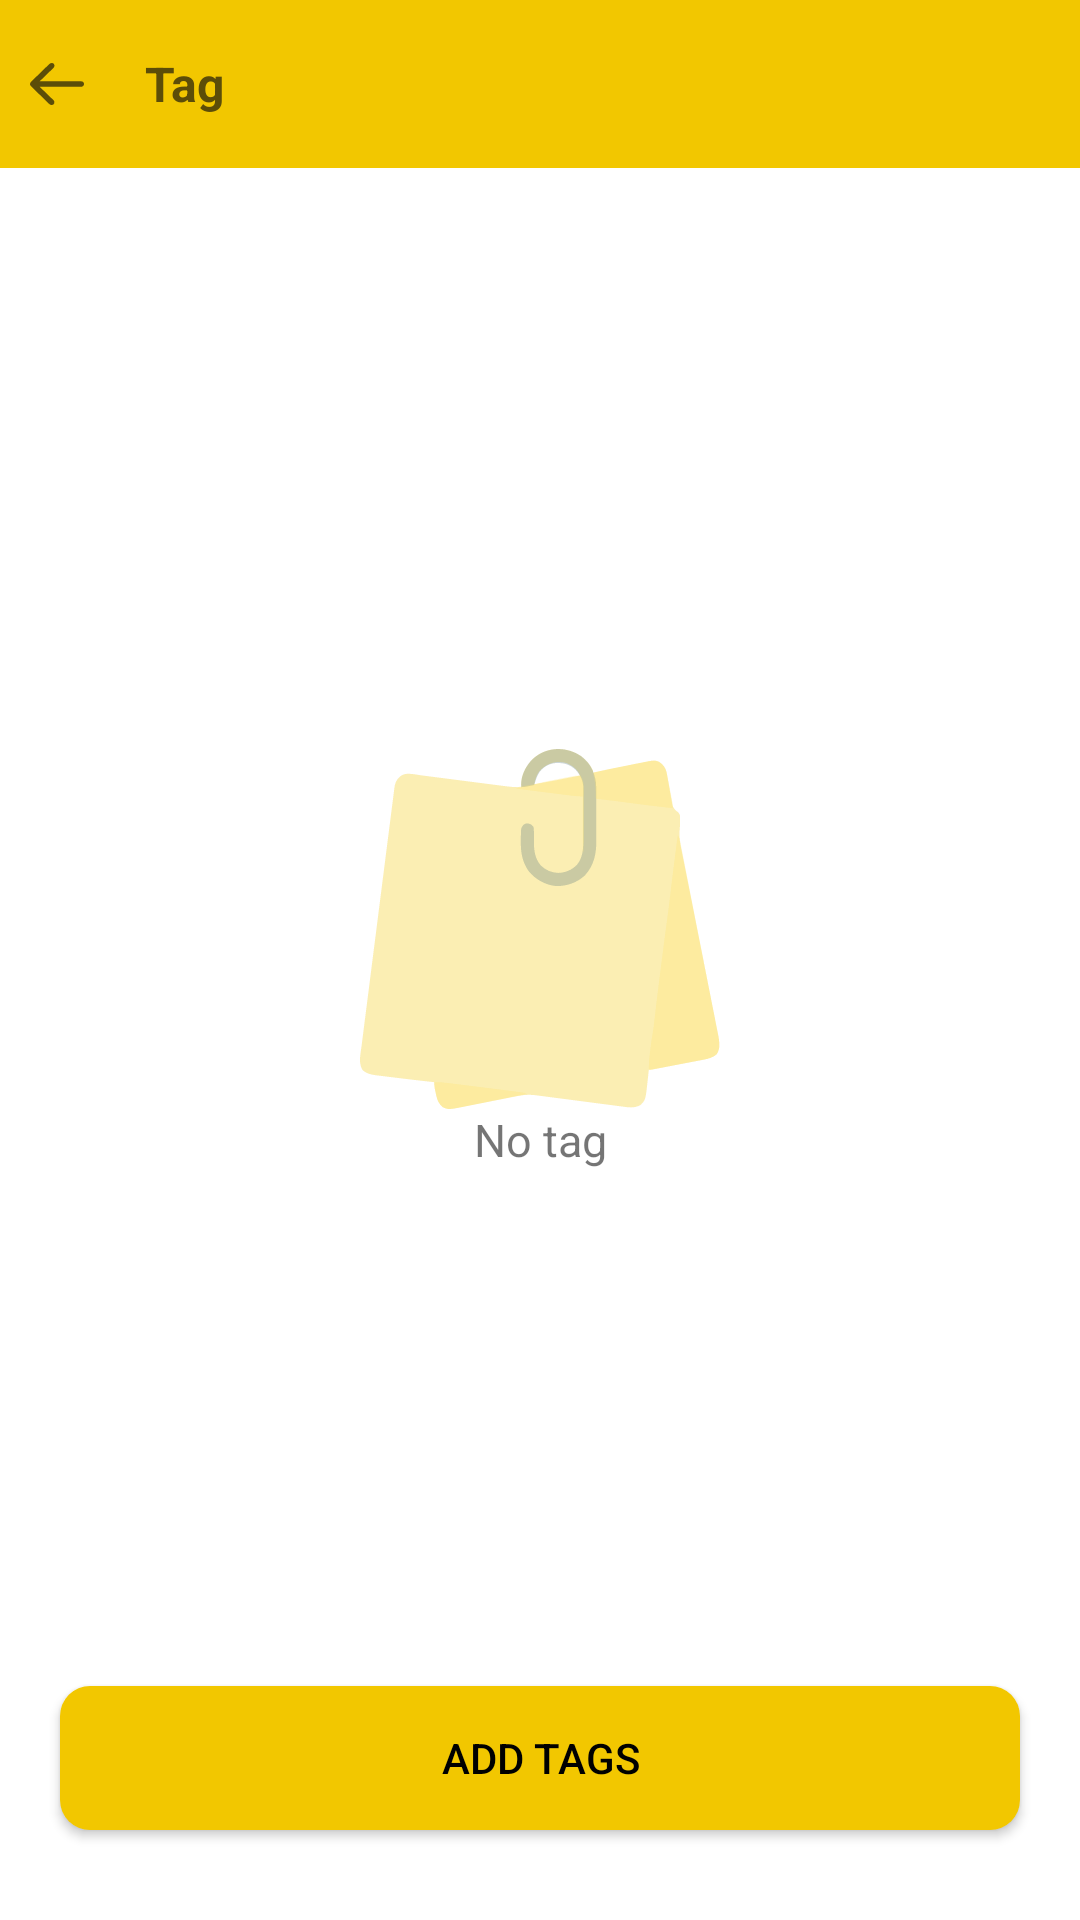

Screen size 1080w x 1920h. Icon name, then its box in pixels as (x1, y1, x2, y2):
back: (30, 63, 84, 105)
